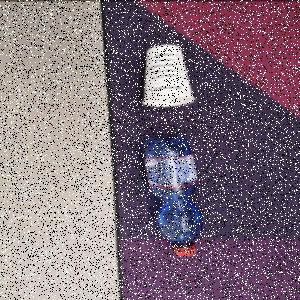Cup: (143, 44, 197, 107)
Plastic-bottle: (145, 135, 206, 257)
